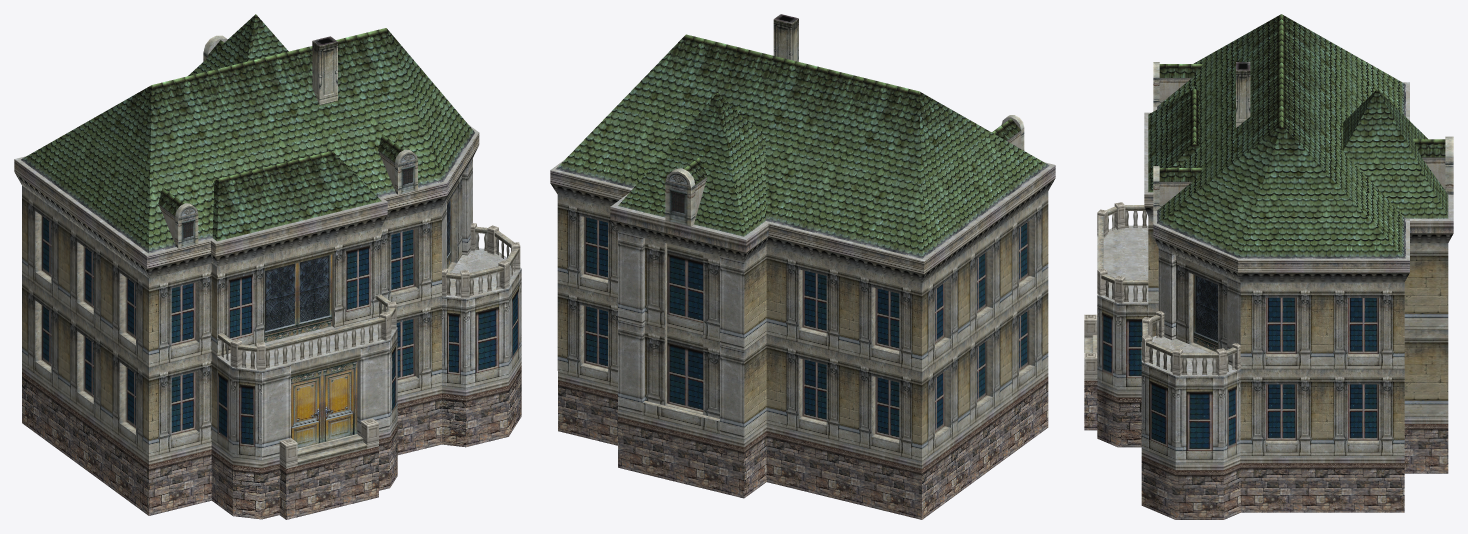
Rendered from rd_vil5.glb.
The picture shows the model from 3 angles, left to right: view 1: azimuth 30°, elevation 25°; view 2: azimuth 150°, elevation 25°; view 3: azimuth 270°, elevation 25°; orthographic projection. The views are drawn at different scales.
Visible parts, largest first — view 1: rd_vil5-col; view 2: rd_vil5-col; view 3: rd_vil5-col.
Boxes of the visible parts, <box> form: rd_vil5-col: <box>14,14,521,519</box>; rd_vil5-col: <box>550,14,1055,519</box>; rd_vil5-col: <box>1084,14,1453,519</box>.
Size of the model in its own units: 21.1 by 20.32 by 18.03.
Materials: 11 (11 with a texture image).
